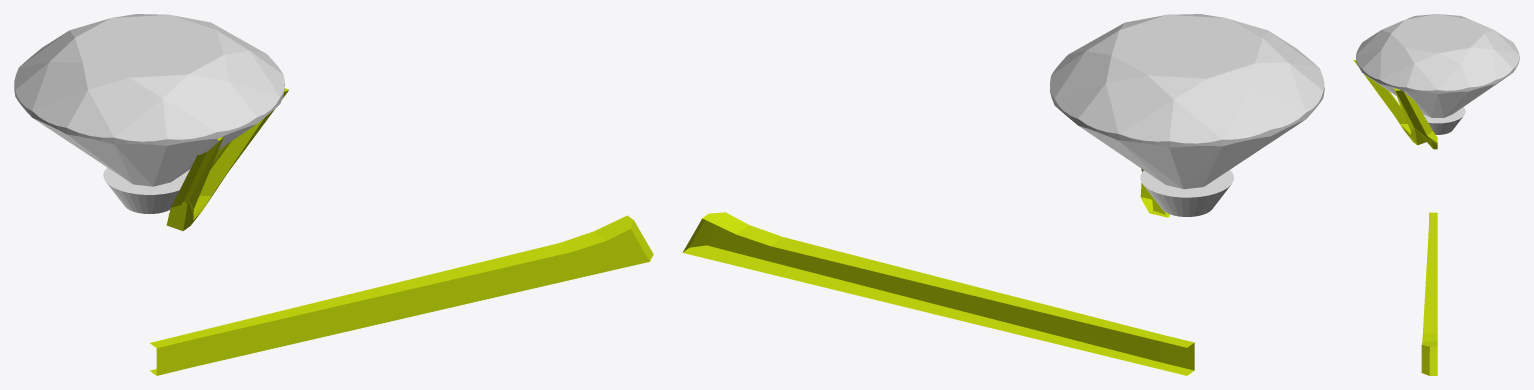
The model's file is ring.glb.
3 renders of one model, left to right at view 1: azimuth 30°, elevation 25°; view 2: azimuth 150°, elevation 25°; view 3: azimuth 270°, elevation 25°, orthographic. The views are drawn at different scales.
Parts seen in each view (by area): view 1: Round, Plane, Circle.002, Circle; view 2: Round, Plane, Circle; view 3: Round, Plane, Circle.002, Circle.
Part boxes in pixels (<box>): Round: <box>14,14,284,186</box>; Plane: <box>150,215,653,375</box>; Circle.002: <box>166,88,288,230</box>; Circle: <box>103,167,189,213</box>; Round: <box>1050,14,1324,189</box>; Plane: <box>682,212,1194,375</box>; Circle: <box>1140,170,1233,216</box>; Round: <box>1356,14,1519,117</box>; Plane: <box>1421,212,1437,375</box>; Circle.002: <box>1353,60,1437,149</box>; Circle: <box>1423,107,1465,134</box>.
Size of the model in its own units: 34.85 by 17.58 by 13.51.
